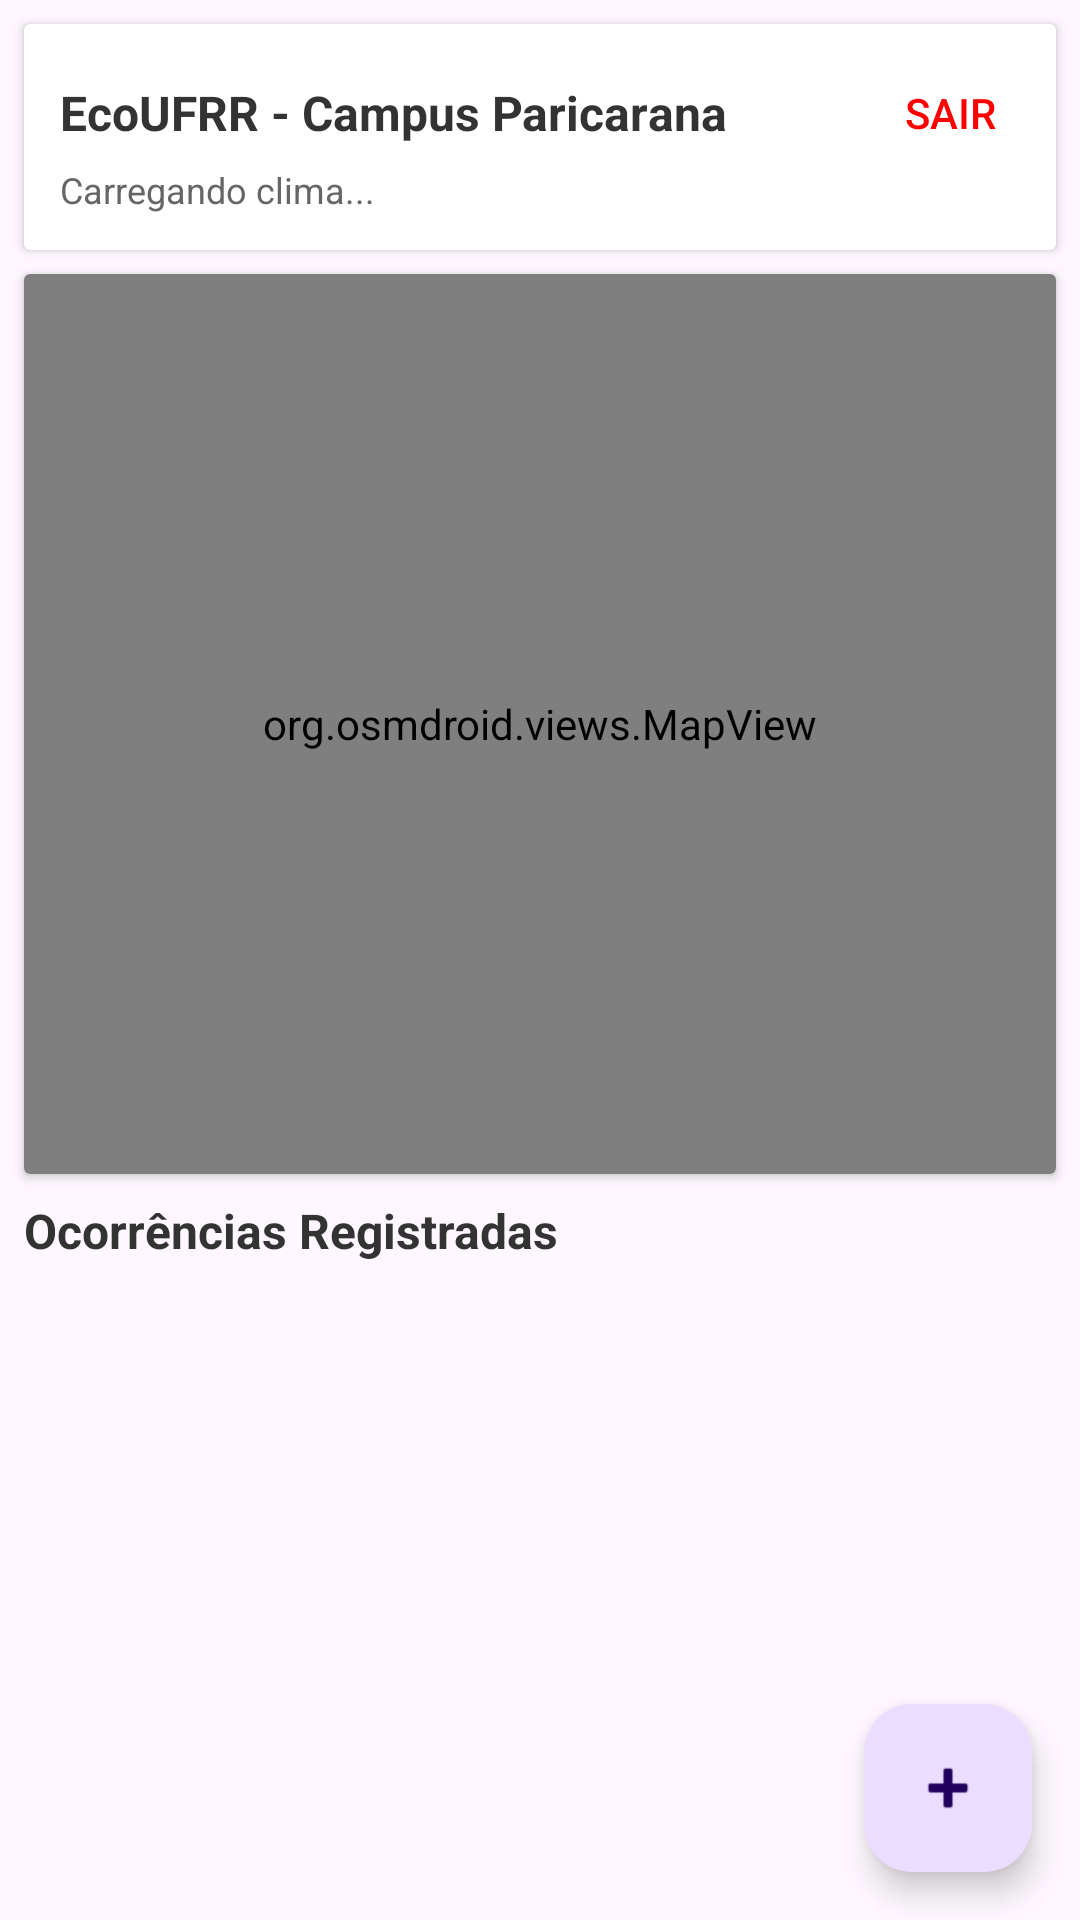

Named icons in this screenshot (1080 x 1920) and their bounding boxes, (x1, y1, x2, y2):
Adicionar Ocorrência: (864, 1704, 1032, 1872)
